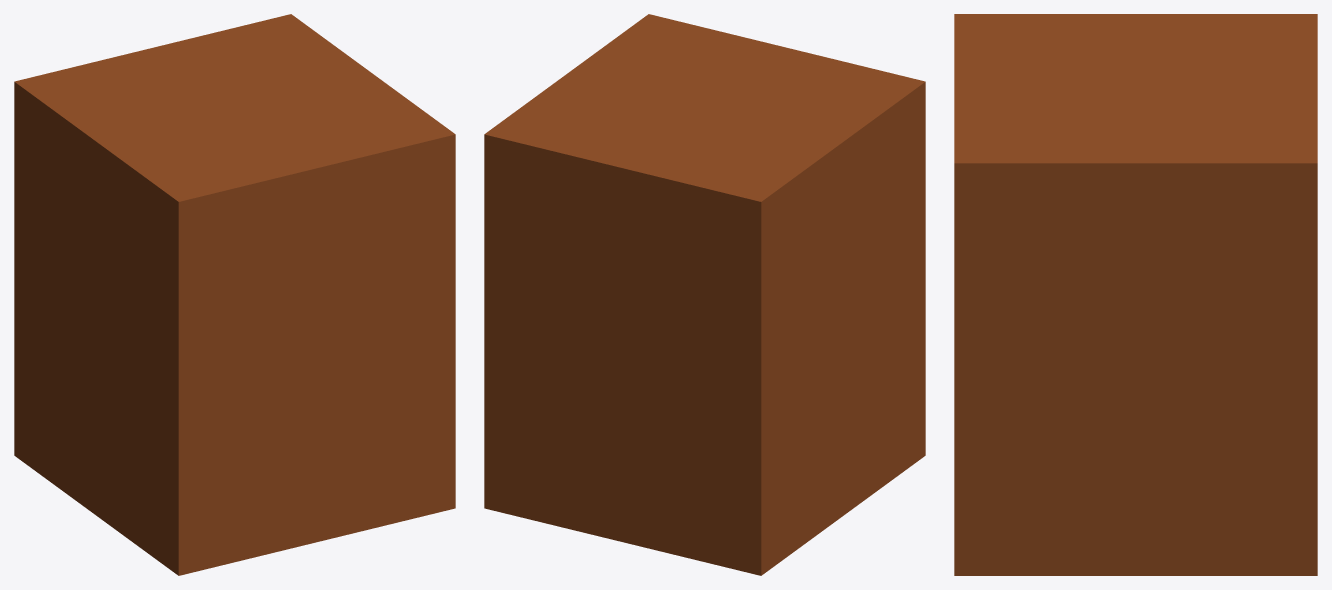
File: ConnectingCupboardL.fbx
3 renders of one model, left to right at view 1: azimuth 30°, elevation 25°; view 2: azimuth 150°, elevation 25°; view 3: azimuth 270°, elevation 25°, orthographic. The views are drawn at different scales.
Parts seen in each view (by area): view 1: Corner Cupboard; view 2: Corner Cupboard; view 3: Corner Cupboard.
Part boxes in pixels (box(x1,y1,x2,y2)): Corner Cupboard: box(14, 14, 455, 575); Corner Cupboard: box(484, 14, 925, 575); Corner Cupboard: box(954, 14, 1317, 575).
Size of the model in its own units: 113 by 116 by 146.
